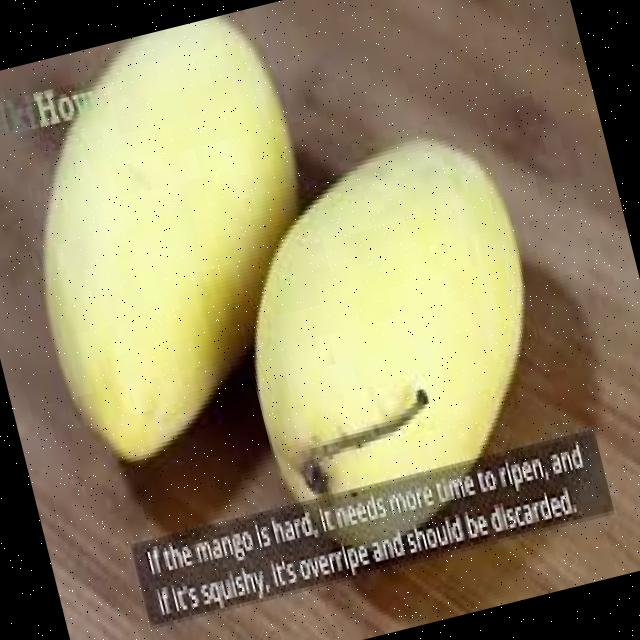mango: (253, 138, 525, 503)
